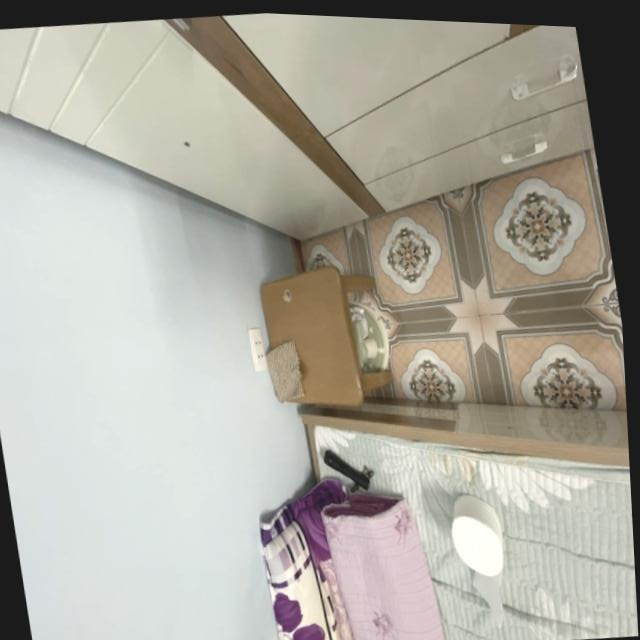outlet: (246, 328, 268, 374)
